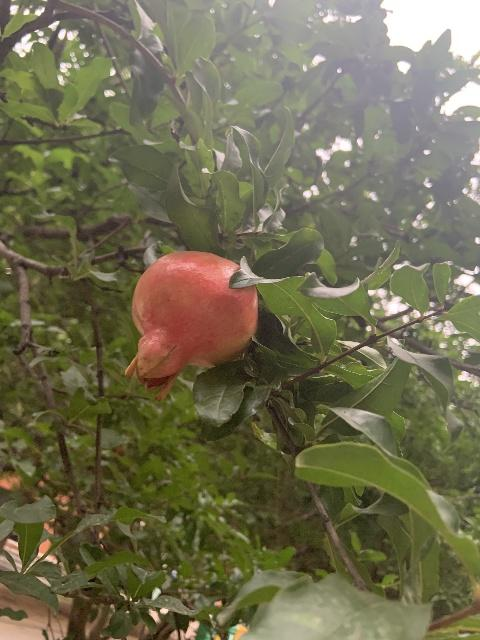ripe: (123, 249, 258, 401)
